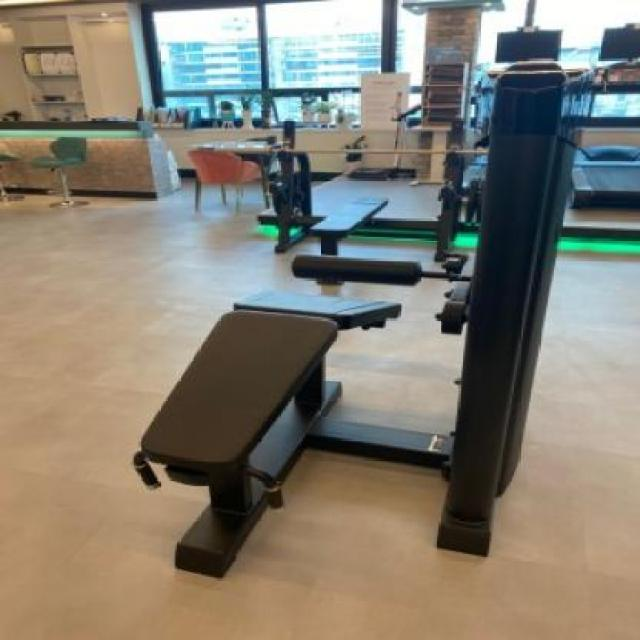reg curl machine: (117, 52, 577, 580)
